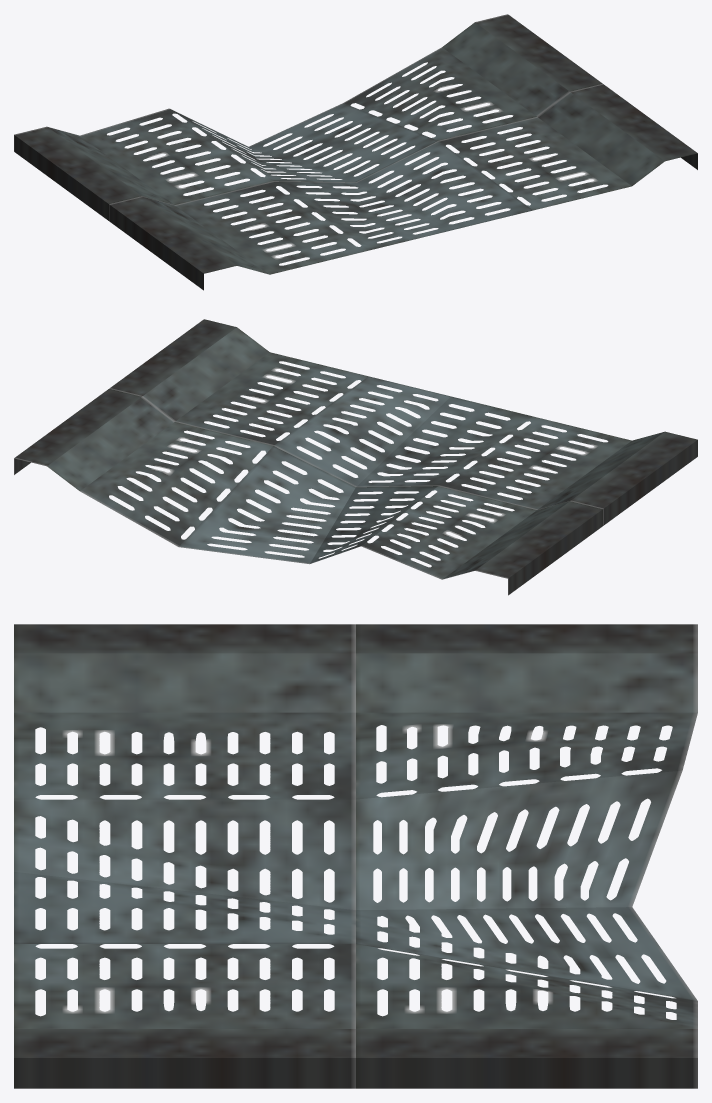
Rendered from MESH_GROUND_METAL_02_001.fbx.
3 views of the same model, one above another, from view 1: azimuth 30°, elevation 25°; view 2: azimuth 150°, elevation 25°; view 3: azimuth 270°, elevation 25° (orthographic). The views are drawn at different scales.
Visible parts, largest first — view 1: MESH_GROUND_METAL_02.001; view 2: MESH_GROUND_METAL_02.001; view 3: MESH_GROUND_METAL_02.001.
Boxes of the visible parts, x1=… form: MESH_GROUND_METAL_02.001: x1=14, y1=14, x2=697, y2=290; MESH_GROUND_METAL_02.001: x1=14, y1=319, x2=697, y2=595; MESH_GROUND_METAL_02.001: x1=14, y1=624, x2=697, y2=1088.
Size of the model in its own units: 3 by 0.2992 by 2.
